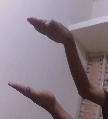hand: (7, 81, 57, 109), (26, 15, 73, 44)
